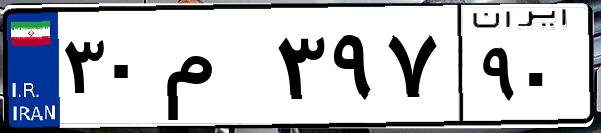0: (525, 38, 570, 115), (110, 28, 158, 98)
3: (270, 28, 330, 110), (57, 26, 110, 100)
7: (385, 28, 445, 110)
9: (330, 28, 385, 110), (475, 38, 525, 113)
م: (158, 20, 270, 120)
